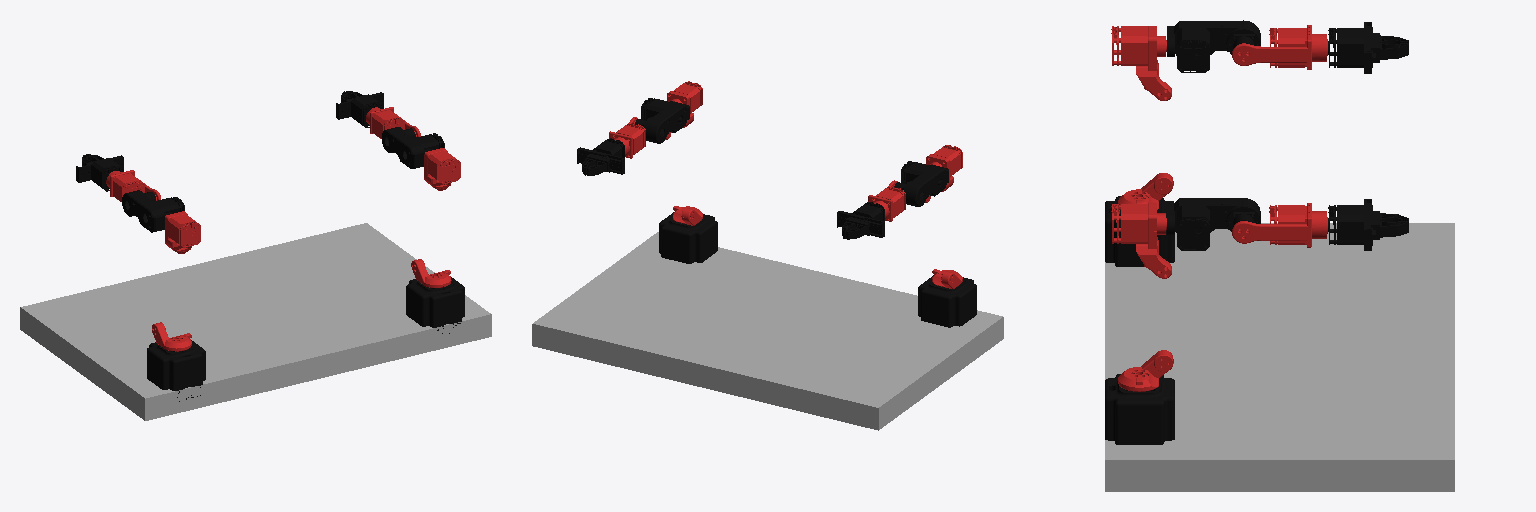
The robot description file, URDF, robot "dual_dummy":
<?xml version="1.0" encoding="utf-8"?>
<!-- ========================================================== -->
<!-- |    This document is dual dummy arm URDF file!          | -->
<!-- |    Editted by jiangjun, 2025.07.09                 | -->
<!-- ========================================================== -->
<robot name="dual_dummy">
  <!-- 定义材质颜色 -->
  <material name="silver">
    <color rgba="0.700 0.700 0.700 1.000"/>
  </material>
  <material name="red">
    <color rgba="0.8 0.2 0.2 1.0"/> <!-- 深红色 -->
  </material>
  <material name="black">
    <color rgba="0.1 0.1 0.1 1.0"/> <!-- 深黑灰色 -->
  </material>
  
  <!-- 定义固定世界关节 -->
  <link name="world"/>
  <joint name="world_joint" type="fixed">
    <parent link="world"/>
    <child link="base_plate"/>
    <origin xyz="0.0 0.0 0.025"/>
  </joint>
  
  <!-- 公共基座 -->
  <link name="base_plate">
    <inertial>
      <origin rpy="0 0 0" xyz="0 0 0"/>
      <mass value="5.0"/>
      <inertia ixx="0.1" ixy="0" ixz="0" iyy="0.1" iyz="0" izz="0.1"/>
    </inertial>
    <visual>
      <geometry>
        <box size="0.8 0.5 0.05"/>
      </geometry>
      <material name="silver"/>
    </visual>
    <collision>
      <origin rpy="0 0 0" xyz="0 0 0"/>
      <geometry>
        <box size="0.5 0.8 0.05"/>
      </geometry>
    </collision>
  </link>
  


  <!-- 机械臂连杆定义 -->
  <link name="left_base_link">
    <inertial>
      <origin rpy="0 0 0" xyz="2.242591646188575e-07 0.00022711838502637176 0.0543574942352709"/>
      <mass value="1.2152141810431654"/>
      <inertia ixx="0.002105" ixy="-0.0" ixz="0.0" iyy="0.002245" iyz="-1.1e-05" izz="0.002436"/>
    </inertial>
    <visual>
      <origin rpy="0 0 0" xyz="0 0 0"/>
      <geometry>
         <mesh filename="package://dummy2_description/meshes/base_link.stl" scale="0.001 0.001 0.001"/>
      </geometry>
      <material name="black"/>
    </visual>
    <collision>
      <origin rpy="0 0 0" xyz="0 0 0"/>
      <geometry>
         <mesh filename="package://dummy2_description/meshes/base_link.stl" scale="0.001 0.001 0.001"/>
      </geometry>
    </collision>
  </link>
  <link name="left_link1_1">
    <inertial>
      <origin rpy="0 0 0" xyz="-0.0056980705903348725 0.00648616835675352 0.012857190819102027"/>
      <mass value="0.1444690972471256"/>
      <inertia ixx="6.5e-05" ixy="2.1e-05" ixz="9e-06" iyy="5.4e-05" iyz="-1.5e-05" izz="9e-05"/>
    </inertial>
    <visual>
      <origin rpy="0 0 0" xyz="0.0 0.0 -0.096"/>
      <geometry>
         <mesh filename="package://dummy2_description/meshes/link1_1.stl" scale="0.001 0.001 0.001"/>
      </geometry>
      <material name="red"/>
    </visual>
    <collision>
      <origin rpy="0 0 0" xyz="0.0 0.0 -0.096"/>
      <geometry>
         <mesh filename="package://dummy2_description/meshes/link1_1.stl" scale="0.001 0.001 0.001"/>
      </geometry>
    </collision>
  </link>
  <link name="left_link2_1">
    <inertial>
      <origin rpy="0 0 0" xyz="0.0188447417509659 0.0019829653147296275 0.08367138108787778"/>
      <mass value="0.6521077215074461"/>
      <inertia ixx="0.002179" ixy="-1e-06" ixz="0.000265" iyy="0.002318" iyz="2.2e-05" izz="0.000411"/>
    </inertial>
    <visual>
      <origin rpy="0 0 0" xyz="0.011639 -0.034477 -0.1245"/>
      <geometry>
         <mesh filename="package://dummy2_description/meshes/link2_1.stl" scale="0.001 0.001 0.001"/>
      </geometry>
      <material name="black"/>
    </visual>
    <collision>
      <origin rpy="0 0 0" xyz="0.011639 -0.034477 -0.1245"/>
      <geometry>
         <mesh filename="package://dummy2_description/meshes/link2_1.stl" scale="0.001 0.001 0.001"/>
      </geometry>
    </collision>
  </link>
  <link name="left_link3_1">
    <inertial>
      <origin rpy="0 0 0" xyz="-0.01071065579982854 -0.027860026044143744 0.04896369644132431"/>
      <mass value="0.6005346433244714"/>
      <inertia ixx="0.000823" ixy="-4e-05" ixz="8.7e-05" iyy="0.000697" iyz="0.000126" izz="0.000535"/>
    </inertial>
    <visual>
      <origin rpy="0 0 0" xyz="-0.024511 -0.034477 -0.2925"/>
      <geometry>
         <mesh filename="package://dummy2_description/meshes/link3_1.stl" scale="0.001 0.001 0.001"/>
      </geometry>
      <material name="red"/>
    </visual>
    <collision>
      <origin rpy="0 0 0" xyz="-0.024511 -0.034477 -0.2925"/>
      <geometry>
         <mesh filename="package://dummy2_description/meshes/link3_1.stl" scale="0.001 0.001 0.001"/>
      </geometry>
    </collision>
  </link>
  <link name="left_link4_1">
    <inertial>
      <origin rpy="0 0 0" xyz="-0.0052376144149527196 0.0600375883820652 0.0005874969147224296"/>
      <mass value="0.1580312221089852"/>
      <inertia ixx="0.000624" ixy="4e-05" ixz="3e-06" iyy="0.000202" iyz="-5e-06" izz="0.000688"/>
    </inertial>
    <visual>
      <origin rpy="0 0 0" xyz="-0.011349 -0.038577 -0.354967"/>
      <geometry>
         <mesh filename="package://dummy2_description/meshes/link4_1.stl" scale="0.001 0.001 0.001"/>
      </geometry>
      <material name="black"/>
    </visual>
    <collision>
      <origin rpy="0 0 0" xyz="-0.011349 -0.038577 -0.354967"/>
      <geometry>
         <mesh filename="package://dummy2_description/meshes/link4_1.stl" scale="0.001 0.001 0.001"/>
      </geometry>
    </collision>
  </link>
  <link name="left_link5_1">
    <inertial>
      <origin rpy="0 0 0" xyz="-0.014439500295566867 0.07274346111500346 -0.0007483346369849819"/>
      <mass value="0.07858738652766984"/>
      <inertia ixx="0.00089" ixy="0.000144" ixz="-4e-06" iyy="0.000343" iyz="6e-06" izz="0.000973"/>
    </inertial>
    <visual>
      <origin rpy="0 0 0" xyz="-0.032649 -0.148577 -0.354967"/>
      <geometry>
         <mesh filename="package://dummy2_description/meshes/link5_1.stl" scale="0.001 0.001 0.001"/>
      </geometry>
      <material name="red"/>
    </visual>
    <collision>
      <origin rpy="0 0 0" xyz="-0.032649 -0.148577 -0.354967"/>
      <geometry>
         <mesh filename="package://dummy2_description/meshes/link5_1.stl" scale="0.001 0.001 0.001"/>
      </geometry>
    </collision>
  </link>
  <link name="left_link6_1">
    <inertial>
      <origin rpy="0 0 0" xyz="5.087622746753444e-05 0.04245066924408897 6.811081131086194e-05"/>
      <mass value="0.0604072405055537"/>
      <inertia ixx="0.000334" ixy="-2e-06" ixz="-1e-06" iyy="0.000382" iyz="2e-06" izz="0.000521"/>
    </inertial>
    <visual>
      <origin rpy="0 0 0" xyz="-0.012827 -0.268077 -0.353741"/>
      <geometry>
         <mesh filename="package://dummy2_description/meshes/link6_1.stl" scale="0.001 0.001 0.001"/>
      </geometry>
      <material name="black"/>
    </visual>
    <collision>
      <origin rpy="0 0 0" xyz="-0.012827 -0.268077 -0.353741"/>
      <geometry>
         <mesh filename="package://dummy2_description/meshes/link6_1.stl" scale="0.001 0.001 0.001"/>
      </geometry>
    </collision>
  </link>
  <link name="left_figer1_1">
    <inertial>
      <origin rpy="0 0 0" xyz="-0.001013816286429263 0.017871453686335137 -9.360034337241308e-05"/>
      <mass value="0.0122978780886348"/>
      <inertia ixx="8e-06" ixy="1e-06" ixz="0.0" iyy="2e-06" iyz="0.0" izz="8e-06"/>
    </inertial>
    <visual>
      <origin rpy="0 0 0" xyz="-0.025651 -0.342539 -0.353641"/>
      <geometry>
         <mesh filename="package://dummy2_description/meshes/figer1_1.stl" scale="0.001 0.001 0.001"/>
      </geometry>
      <material name="black"/>
    </visual>
    <collision>
      <origin rpy="0 0 0" xyz="-0.025651 -0.342539 -0.353641"/>
      <geometry>
         <mesh filename="package://dummy2_description/meshes/figer1_1.stl" scale="0.001 0.001 0.001"/>
      </geometry>
    </collision>
  </link>
  <link name="left_figer2_1">
    <inertial>
      <origin rpy="0 0 0" xyz="0.001014115315322053 0.01787145295991821 9.418612516776115e-05"/>
      <mass value="0.012297878145578977"/>
      <inertia ixx="8e-06" ixy="-1e-06" ixz="0.0" iyy="2e-06" iyz="-0.0" izz="8e-06"/>
    </inertial>
    <visual>
      <origin rpy="0 0 0" xyz="-0.000651 -0.342539 -0.353741"/>
      <geometry>
         <mesh filename="package://dummy2_description/meshes/figer2_1.stl" scale="0.001 0.001 0.001"/>
      </geometry>
      <material name="black"/>
    </visual>
    <collision>
      <origin rpy="0 0 0" xyz="-0.000651 -0.342539 -0.353741"/>
      <geometry>
         <mesh filename="package://dummy2_description/meshes/figer2_1.stl" scale="0.001 0.001 0.001"/>
      </geometry>
    </collision>
  </link>
 

  <!-- 机械臂关节定义 -->

  <joint name="left_base_joint" type="fixed">
    <origin rpy="0 0 0" xyz="-0.3 -0.2 0"/> <!-- 机械臂偏移位置 -->
    <parent link="base_plate"/>
    <child link="left_base_link"/>
  </joint>
  <joint name="left_joint1" type="revolute">
    <origin rpy="0 0 0" xyz="0 0 0.096"/>
    <parent link="left_base_link"/>
    <child link="left_link1_1"/>
    <axis xyz="0.0 -0.0 -1.0"/>
    <limit effort="100" lower="-3.001966" upper="3.001966" velocity="100"/>

  </joint>
  <joint name="left_joint2" type="revolute">
    <origin rpy="0 0 0" xyz="-0.011639 0.034477 0.0285"/>
    <parent link="left_link1_1"/>
    <child link="left_link2_1"/>
    <axis xyz="1.0 0.0 -0.0"/>
    <limit effort="100" lower="-3.570796" upper="3.308997" velocity="100"/>
    <dynamics damping="1" friction="0.05"/> 
  </joint>
  <joint name="left_joint3" type="revolute">
    <origin rpy="0 0 0" xyz="0.03615 0.0 0.168"/>
    <parent link="left_link2_1"/>
    <child link="left_link3_1"/>
    <axis xyz="-1.0 -0.0 -0.0"/>
    <limit effort="200" lower="-3.500983" upper="3.570796" velocity="100"/>

  </joint>
  <joint name="left_joint4" type="revolute">
    <origin rpy="0 0 0" xyz="-0.013162 0.0041 0.062467"/>
    <parent link="left_link3_1"/>
    <child link="left_link4_1"/>
    <axis xyz="0.0 -1.0 0.0"/>
    <limit effort="100" lower="-3.141593" upper="3.141593" velocity="100"/>

  </joint>
  <joint name="left_joint5" type="revolute">
    <origin rpy="0 0 0" xyz="0.0213 0.11 0.0"/>
    <parent link="left_link4_1"/>
    <child link="left_link5_1"/>
    <axis xyz="-1.0 -0.0 -0.0"/>
    <limit effort="200" lower="-3.919862" upper="3.094395" velocity="100"/>
    <dynamics damping="0.6" friction="0.06"/> 
  </joint>
  <joint name="left_joint6" type="revolute">
    <origin rpy="0 0 0" xyz="-0.019822 0.1195 -0.001226"/>
    <parent link="left_link5_1"/>
    <child link="left_link6_1"/>
    <axis xyz="0.0 -1.0 -0.0"/>
    <limit effort="100" lower="-3.141593" upper="3.141593" velocity="100"/>

  </joint>
  <joint name="left_figer1" type="prismatic">
    <origin rpy="0 0 0" xyz="0.012824 0.074462 -0.0001"/>
    <parent link="left_link6_1"/>
    <child link="left_figer1_1"/>
    <axis xyz="1.0 0.0 0.0"/>
    <limit effort="100" lower="0.0" upper="0.028" velocity="100"/>

  </joint>
  <joint name="left_figer2" type="prismatic">
    <origin rpy="0 0 0" xyz="-0.012176 0.074462 0.0"/>
    <parent link="left_link6_1"/>
    <child link="left_figer2_1"/>
    <axis xyz="-1.0 0.0 0.0"/>
    <limit effort="100" lower="0.0" upper="0.028" velocity="100"/>

  </joint>
   

  <!-- 机械臂连杆定义 -->
  <link name="right_base_link">
    <inertial>
      <origin rpy="0 0 0" xyz="2.242591646188575e-07 0.00022711838502637176 0.0543574942352709"/>
      <mass value="1.2152141810431654"/>
      <inertia ixx="0.002105" ixy="-0.0" ixz="0.0" iyy="0.002245" iyz="-1.1e-05" izz="0.002436"/>
    </inertial>
    <visual>
      <origin rpy="0 0 0" xyz="0 0 0"/>
      <geometry>
         <mesh filename="package://dummy2_description/meshes/base_link.stl" scale="0.001 0.001 0.001"/>
      </geometry>
      <material name="black"/>
    </visual>
    <collision>
      <origin rpy="0 0 0" xyz="0 0 0"/>
      <geometry>
         <mesh filename="package://dummy2_description/meshes/base_link.stl" scale="0.001 0.001 0.001"/>
      </geometry>
    </collision>
  </link>
  <link name="right_link1_1">
    <inertial>
      <origin rpy="0 0 0" xyz="-0.0056980705903348725 0.00648616835675352 0.012857190819102027"/>
      <mass value="0.1444690972471256"/>
      <inertia ixx="6.5e-05" ixy="2.1e-05" ixz="9e-06" iyy="5.4e-05" iyz="-1.5e-05" izz="9e-05"/>
    </inertial>
    <visual>
      <origin rpy="0 0 0" xyz="0.0 0.0 -0.096"/>
      <geometry>
         <mesh filename="package://dummy2_description/meshes/link1_1.stl" scale="0.001 0.001 0.001"/>
      </geometry>
      <material name="red"/>
    </visual>
    <collision>
      <origin rpy="0 0 0" xyz="0.0 0.0 -0.096"/>
      <geometry>
         <mesh filename="package://dummy2_description/meshes/link1_1.stl" scale="0.001 0.001 0.001"/>
      </geometry>
    </collision>
  </link>
  <link name="right_link2_1">
    <inertial>
      <origin rpy="0 0 0" xyz="0.0188447417509659 0.0019829653147296275 0.08367138108787778"/>
      <mass value="0.6521077215074461"/>
      <inertia ixx="0.002179" ixy="-1e-06" ixz="0.000265" iyy="0.002318" iyz="2.2e-05" izz="0.000411"/>
    </inertial>
    <visual>
      <origin rpy="0 0 0" xyz="0.011639 -0.034477 -0.1245"/>
      <geometry>
         <mesh filename="package://dummy2_description/meshes/link2_1.stl" scale="0.001 0.001 0.001"/>
      </geometry>
      <material name="black"/>
    </visual>
    <collision>
      <origin rpy="0 0 0" xyz="0.011639 -0.034477 -0.1245"/>
      <geometry>
         <mesh filename="package://dummy2_description/meshes/link2_1.stl" scale="0.001 0.001 0.001"/>
      </geometry>
    </collision>
  </link>
  <link name="right_link3_1">
    <inertial>
      <origin rpy="0 0 0" xyz="-0.01071065579982854 -0.027860026044143744 0.04896369644132431"/>
      <mass value="0.6005346433244714"/>
      <inertia ixx="0.000823" ixy="-4e-05" ixz="8.7e-05" iyy="0.000697" iyz="0.000126" izz="0.000535"/>
    </inertial>
    <visual>
      <origin rpy="0 0 0" xyz="-0.024511 -0.034477 -0.2925"/>
      <geometry>
         <mesh filename="package://dummy2_description/meshes/link3_1.stl" scale="0.001 0.001 0.001"/>
      </geometry>
      <material name="red"/>
    </visual>
    <collision>
      <origin rpy="0 0 0" xyz="-0.024511 -0.034477 -0.2925"/>
      <geometry>
         <mesh filename="package://dummy2_description/meshes/link3_1.stl" scale="0.001 0.001 0.001"/>
      </geometry>
    </collision>
  </link>
  <link name="right_link4_1">
    <inertial>
      <origin rpy="0 0 0" xyz="-0.0052376144149527196 0.0600375883820652 0.0005874969147224296"/>
      <mass value="0.1580312221089852"/>
      <inertia ixx="0.000624" ixy="4e-05" ixz="3e-06" iyy="0.000202" iyz="-5e-06" izz="0.000688"/>
    </inertial>
    <visual>
      <origin rpy="0 0 0" xyz="-0.011349 -0.038577 -0.354967"/>
      <geometry>
         <mesh filename="package://dummy2_description/meshes/link4_1.stl" scale="0.001 0.001 0.001"/>
      </geometry>
      <material name="black"/>
    </visual>
    <collision>
      <origin rpy="0 0 0" xyz="-0.011349 -0.038577 -0.354967"/>
      <geometry>
         <mesh filename="package://dummy2_description/meshes/link4_1.stl" scale="0.001 0.001 0.001"/>
      </geometry>
    </collision>
  </link>
  <link name="right_link5_1">
    <inertial>
      <origin rpy="0 0 0" xyz="-0.014439500295566867 0.07274346111500346 -0.0007483346369849819"/>
      <mass value="0.07858738652766984"/>
      <inertia ixx="0.00089" ixy="0.000144" ixz="-4e-06" iyy="0.000343" iyz="6e-06" izz="0.000973"/>
    </inertial>
    <visual>
      <origin rpy="0 0 0" xyz="-0.032649 -0.148577 -0.354967"/>
      <geometry>
         <mesh filename="package://dummy2_description/meshes/link5_1.stl" scale="0.001 0.001 0.001"/>
      </geometry>
      <material name="red"/>
    </visual>
    <collision>
      <origin rpy="0 0 0" xyz="-0.032649 -0.148577 -0.354967"/>
      <geometry>
         <mesh filename="package://dummy2_description/meshes/link5_1.stl" scale="0.001 0.001 0.001"/>
      </geometry>
    </collision>
  </link>
  <link name="right_link6_1">
    <inertial>
      <origin rpy="0 0 0" xyz="5.087622746753444e-05 0.04245066924408897 6.811081131086194e-05"/>
      <mass value="0.0604072405055537"/>
      <inertia ixx="0.000334" ixy="-2e-06" ixz="-1e-06" iyy="0.000382" iyz="2e-06" izz="0.000521"/>
    </inertial>
    <visual>
      <origin rpy="0 0 0" xyz="-0.012827 -0.268077 -0.353741"/>
      <geometry>
         <mesh filename="package://dummy2_description/meshes/link6_1.stl" scale="0.001 0.001 0.001"/>
      </geometry>
      <material name="black"/>
    </visual>
    <collision>
      <origin rpy="0 0 0" xyz="-0.012827 -0.268077 -0.353741"/>
      <geometry>
         <mesh filename="package://dummy2_description/meshes/link6_1.stl" scale="0.001 0.001 0.001"/>
      </geometry>
    </collision>
  </link>
  <link name="right_figer1_1">
    <inertial>
      <origin rpy="0 0 0" xyz="-0.001013816286429263 0.017871453686335137 -9.360034337241308e-05"/>
      <mass value="0.0422978780886348"/>
      <inertia ixx="8e-06" ixy="1e-06" ixz="0.0" iyy="2e-06" iyz="0.0" izz="8e-06"/>
    </inertial>
    <visual>
      <origin rpy="0 0 0" xyz="-0.025651 -0.342539 -0.353641"/>
      <geometry>
         <mesh filename="package://dummy2_description/meshes/figer1_1.stl" scale="0.001 0.001 0.001"/>
      </geometry>
      <material name="black"/>
    </visual>
    <collision>
      <origin rpy="0 0 0" xyz="-0.025651 -0.342539 -0.353641"/>
      <geometry>
         <mesh filename="package://dummy2_description/meshes/figer1_1.stl" scale="0.001 0.001 0.001"/>
      </geometry>
    </collision>
  </link>
  <link name="right_figer2_1">
    <inertial>
      <origin rpy="0 0 0" xyz="0.001014115315322053 0.01787145295991821 9.418612516776115e-05"/>
      <mass value="0.042297878145578977"/>
      <inertia ixx="8e-06" ixy="-1e-06" ixz="0.0" iyy="2e-06" iyz="-0.0" izz="8e-06"/>
    </inertial>
    <visual>
      <origin rpy="0 0 0" xyz="-0.000651 -0.342539 -0.353741"/>
      <geometry>
         <mesh filename="package://dummy2_description/meshes/figer2_1.stl" scale="0.001 0.001 0.001"/>
      </geometry>
      <material name="black"/>
    </visual>
    <collision>
      <origin rpy="0 0 0" xyz="-0.000651 -0.342539 -0.353741"/>
      <geometry>
         <mesh filename="package://dummy2_description/meshes/figer2_1.stl" scale="0.001 0.001 0.001"/>
      </geometry>
    </collision>
  </link>

  <!-- 机械臂关节定义 -->

  <joint name="right_base_joint" type="fixed">
    <origin rpy="0 0 0" xyz="0.3 -0.2 0"/> <!-- 机械臂偏移位置 -->
    <parent link="base_plate"/>
    <child link="right_base_link"/>
  </joint>
  <joint name="right_joint1" type="revolute">
    <origin rpy="0 0 0" xyz="0 0 0.096"/>
    <parent link="right_base_link"/>
    <child link="right_link1_1"/>
    <axis xyz="0.0 -0.0 -1.0"/>
    <limit effort="100" lower="-3.001966" upper="3.001966" velocity="100"/>

  </joint>
  <joint name="right_joint2" type="revolute">
    <origin rpy="0 0 0" xyz="-0.011639 0.034477 0.0285"/>
    <parent link="right_link1_1"/>
    <child link="right_link2_1"/>
    <axis xyz="1.0 0.0 -0.0"/>
    <limit effort="100" lower="-3.570796" upper="3.308997" velocity="100"/>
    <dynamics damping="1" friction="0.05"/> 
  </joint>
  <joint name="right_joint3" type="revolute">
    <origin rpy="0 0 0" xyz="0.03615 0.0 0.168"/>
    <parent link="right_link2_1"/>
    <child link="right_link3_1"/>
    <axis xyz="-1.0 -0.0 -0.0"/>
    <limit effort="200" lower="-3.500983" upper="3.570796" velocity="100"/>

  </joint>
  <joint name="right_joint4" type="revolute">
    <origin rpy="0 0 0" xyz="-0.013162 0.0041 0.062467"/>
    <parent link="right_link3_1"/>
    <child link="right_link4_1"/>
    <axis xyz="0.0 -1.0 0.0"/>
    <limit effort="100" lower="-3.141593" upper="3.141593" velocity="100"/>

  </joint>
  <joint name="right_joint5" type="revolute">
    <origin rpy="0 0 0" xyz="0.0213 0.11 0.0"/>
    <parent link="right_link4_1"/>
    <child link="right_link5_1"/>
    <axis xyz="-1.0 -0.0 -0.0"/>
    <limit effort="200" lower="-3.919862" upper="3.094395" velocity="100"/>
    <dynamics damping="0.6" friction="0.06"/> 
  </joint>
  <joint name="right_joint6" type="revolute">
    <origin rpy="0 0 0" xyz="-0.019822 0.1195 -0.001226"/>
    <parent link="right_link5_1"/>
    <child link="right_link6_1"/>
    <axis xyz="0.0 -1.0 -0.0"/>
    <limit effort="100" lower="-3.141593" upper="3.141593" velocity="100"/>

  </joint>
  <joint name="right_figer1" type="prismatic">
    <origin rpy="0 0 0" xyz="0.012824 0.074462 -0.0001"/>
    <parent link="right_link6_1"/>
    <child link="right_figer1_1"/>
    <axis xyz="1.0 0.0 0.0"/>
    <limit effort="100" lower="0.0" upper="0.028" velocity="100"/>

  </joint>
  <joint name="right_figer2" type="prismatic">
    <origin rpy="0 0 0" xyz="-0.012176 0.074462 0.0"/>
    <parent link="right_link6_1"/>
    <child link="right_figer2_1"/>
    <axis xyz="-1.0 0.0 0.0"/>
    <limit effort="100" lower="0.0" upper="0.028" velocity="100"/>
    
  </joint>

  

</robot>

--- Facts derived from the render (not from the file) ---
Views: 3 orthographic renders of the robot side by side, from view 1: azimuth 30°, elevation 25°; view 2: azimuth 150°, elevation 25°; view 3: azimuth 270°, elevation 25°.
Robot: dual_dummy — 20 links, 19 joints (12 revolute, 4 prismatic, 3 fixed); root link world; default pose: all joints at 0.
Links seen in each view (by area): view 1: base_plate, right_base_link, left_base_link, left_link4_1, right_link4_1, right_link3_1, left_link3_1, left_link6_1, right_link6_1, left_link5_1, right_link5_1, left_link1_1 (+1 smaller); view 2: base_plate, right_base_link, left_base_link, right_link4_1, left_link4_1, left_link6_1, right_link6_1, left_link3_1, left_link5_1, right_link5_1, right_link3_1; view 3: base_plate, right_base_link, right_link4_1, left_link4_1, right_link5_1, left_link5_1, right_link3_1, left_link3_1, left_link6_1, right_link6_1, left_base_link, right_link1_1 (+1 smaller).
Boxes of the visible links, <box> form: base_plate: <box>20,223,491,420</box>; right_base_link: <box>406,277,464,333</box>; left_base_link: <box>147,340,205,401</box>; left_link4_1: <box>122,190,184,232</box>; right_link4_1: <box>382,127,444,168</box>; right_link3_1: <box>424,148,460,190</box>; left_link3_1: <box>165,211,200,253</box>; left_link6_1: <box>76,155,123,191</box>; right_link6_1: <box>336,92,383,127</box>; left_link5_1: <box>106,170,160,201</box>; right_link5_1: <box>366,107,420,138</box>; left_link1_1: <box>152,322,191,351</box>; base_plate: <box>532,232,1003,430</box>; right_base_link: <box>659,212,717,263</box>; left_base_link: <box>918,275,976,327</box>; right_link4_1: <box>635,98,689,143</box>; left_link4_1: <box>894,161,948,206</box>; left_link6_1: <box>837,202,884,237</box>; right_link6_1: <box>577,138,624,174</box>; left_link3_1: <box>925,145,962,202</box>; left_link5_1: <box>868,180,905,221</box>; right_link5_1: <box>609,117,645,158</box>; right_link3_1: <box>665,81,702,139</box>; base_plate: <box>1105,223,1454,491</box>; right_base_link: <box>1105,374,1174,444</box>; right_link4_1: <box>1167,198,1260,250</box>; left_link4_1: <box>1167,20,1260,72</box>; right_link5_1: <box>1232,203,1327,247</box>; left_link5_1: <box>1232,25,1327,69</box>; right_link3_1: <box>1111,203,1171,278</box>; left_link3_1: <box>1111,26,1171,100</box>; left_link6_1: <box>1328,22,1379,73</box>; right_link6_1: <box>1328,199,1379,250</box>; left_base_link: <box>1105,196,1174,266</box>; right_link1_1: <box>1118,350,1173,391</box>.
Bounding box of the posed robot: 0.8 × 0.5 × 0.4058 m (x, y, z).
16 mesh visuals loaded from 9 distinct referenced files (8 binary STL); not drawn: 2 (reference not matched to a file when rendering).
